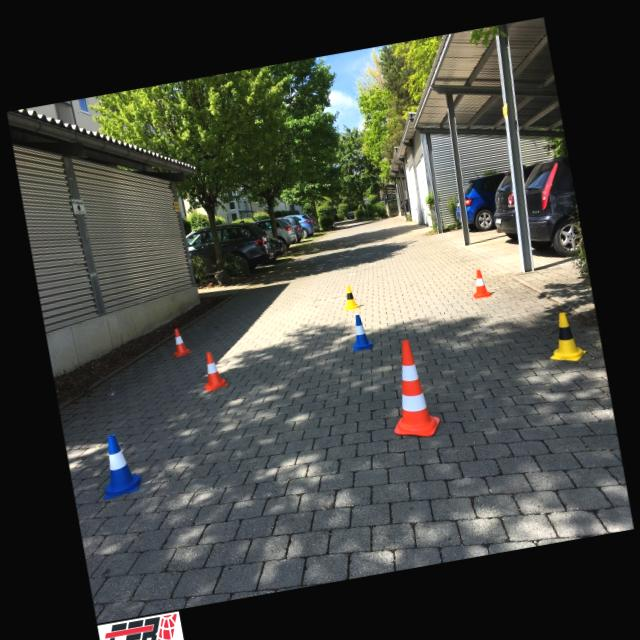blue_cone: (93, 429, 144, 498), (346, 312, 374, 350)
large_orange_cone: (379, 337, 442, 442)
orange_cone: (198, 349, 228, 391), (168, 326, 192, 357), (468, 268, 491, 298)
yellow_cone: (542, 309, 586, 365), (342, 284, 359, 310)
